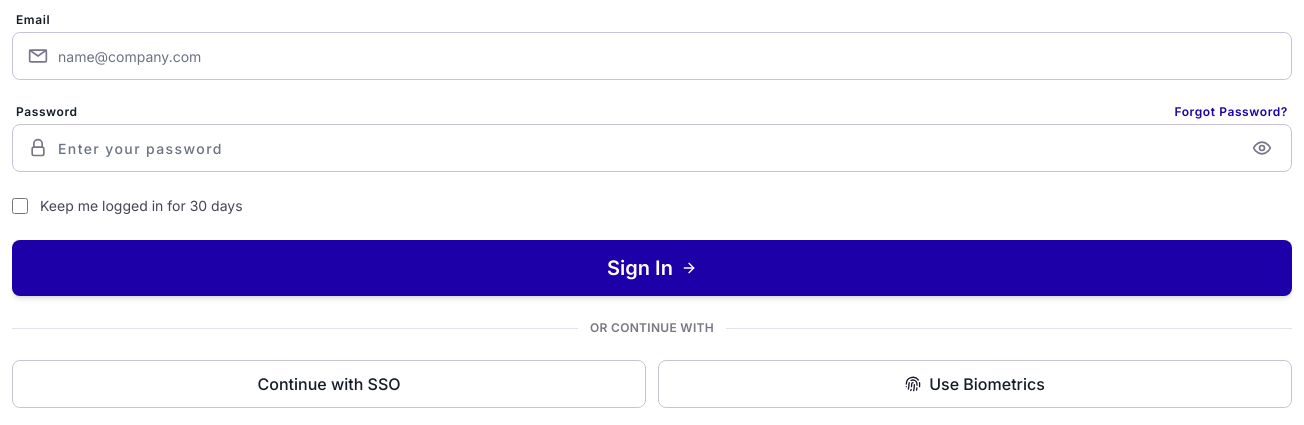
Test: LoginForm › toggles password visibility without clearing the password
Type "secret-password" into the password field labelled "Password" at (652,148), box 12,124 -> 1292,172
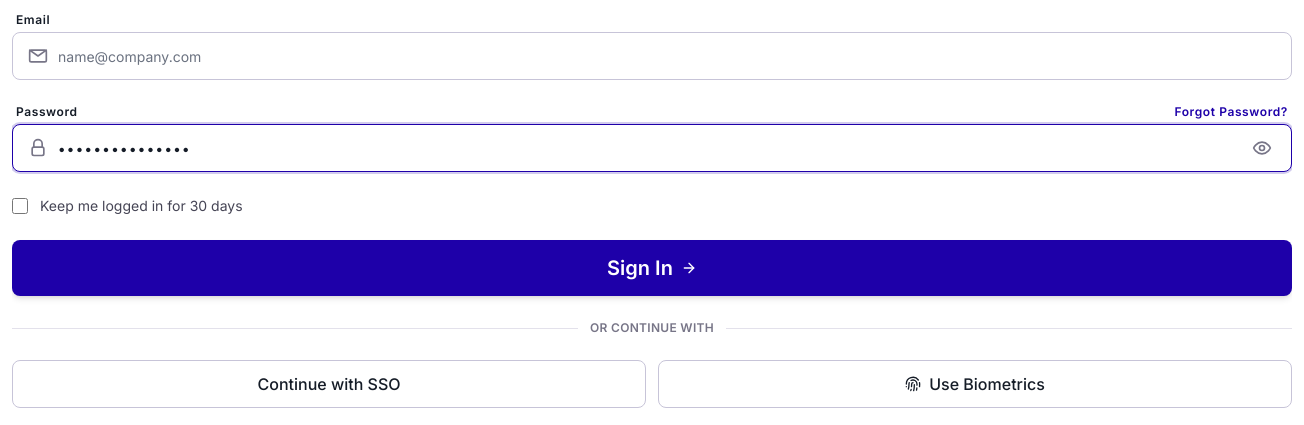
Click the button named "Show password" at (1262,148), box 1244,130 -> 1280,166
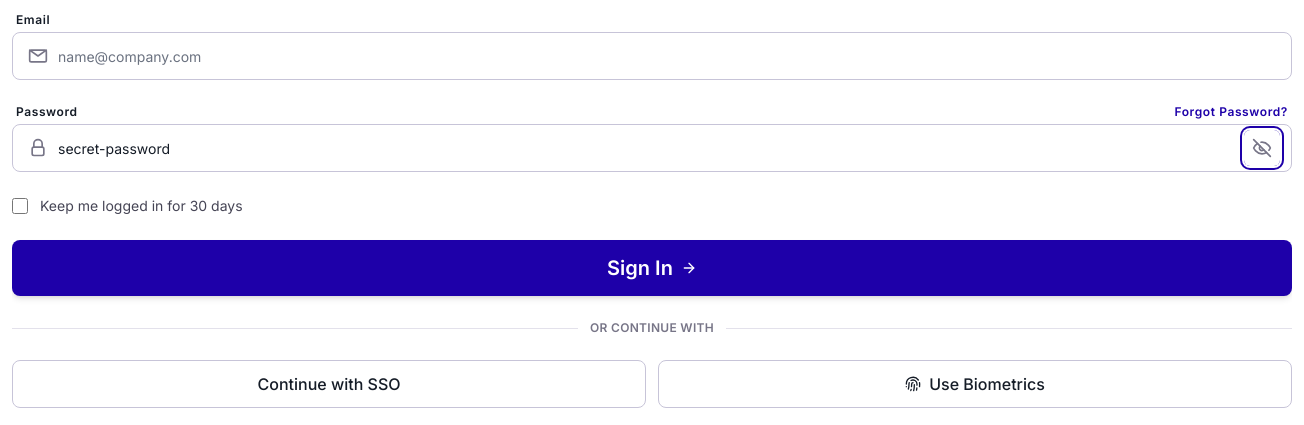
Expected: the field labelled "Password" shows its text, 12,124 -> 1292,172
Click the button named "Hide password" at (1262,148), box 1244,130 -> 1280,166
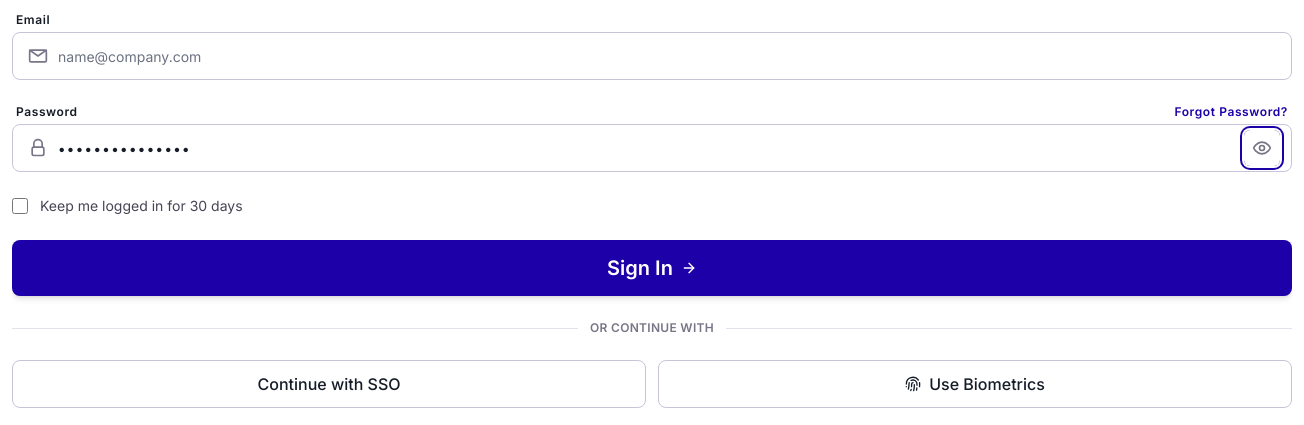
Expected: the password field labelled "Password" hides its text, 12,124 -> 1292,172
